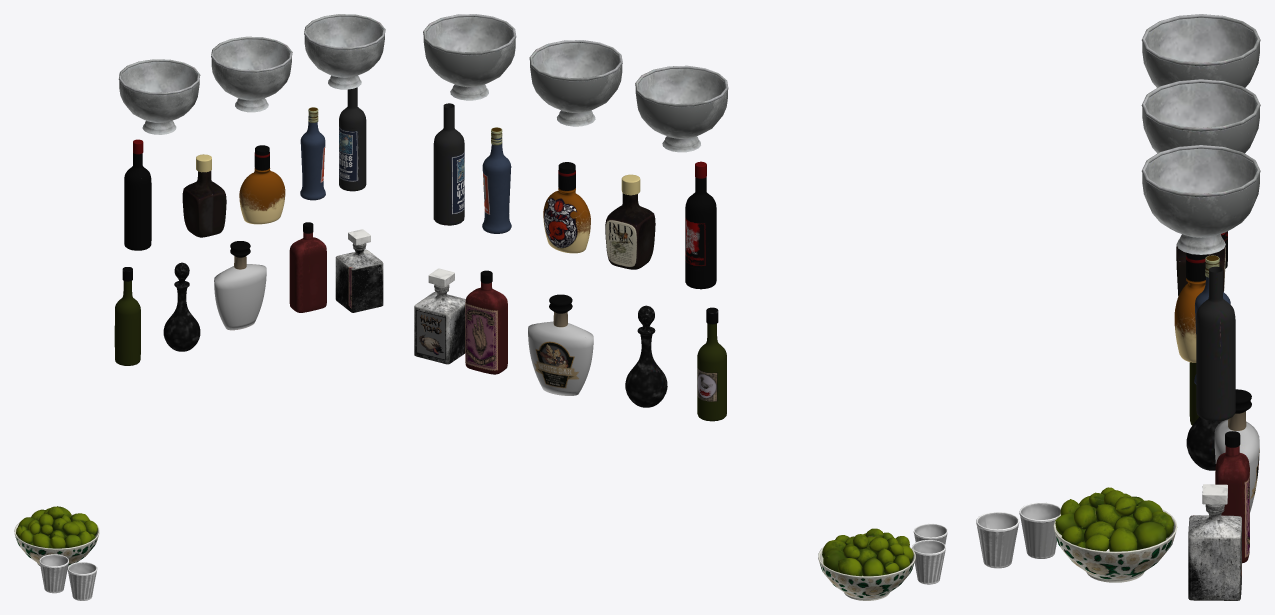
The model's file is Spirits.fbx.
3 views of the same model, side by side, from view 1: azimuth 30°, elevation 25°; view 2: azimuth 150°, elevation 25°; view 3: azimuth 270°, elevation 25° (orthographic). The views are drawn at different scales.
Parts seen in each view (by area): view 1: Group_001, GameObject, Cylinder_Cylinder_002, kitchen_accessories_018, kitchen_accessories_038; view 2: Group_001, GameObject, Cylinder_Cylinder_002, kitchen_accessories_018; view 3: Group_001, GameObject, Cylinder_Cylinder_002, kitchen_accessories_038, kitchen_accessories_018.
Part boxes in pixels (box(x1,y1,x2,y2)): Group_001: box(114, 14, 385, 365); GameObject: box(16, 506, 97, 548); Cylinder_Cylinder_002: box(14, 514, 99, 565); kitchen_accessories_018: box(39, 554, 68, 593); kitchen_accessories_038: box(67, 562, 97, 600); Group_001: box(414, 14, 728, 421); GameObject: box(822, 528, 913, 576); Cylinder_Cylinder_002: box(818, 536, 915, 600); kitchen_accessories_018: box(912, 540, 945, 584); Group_001: box(1141, 14, 1260, 600); GameObject: box(1055, 487, 1173, 551); Cylinder_Cylinder_002: box(1053, 509, 1177, 582); kitchen_accessories_038: box(976, 512, 1019, 568); kitchen_accessories_018: box(1019, 502, 1060, 558).
Bounding box in the file's own units: 111 × 117 × 47.93.
Materials: 1 (1 with a texture image).
